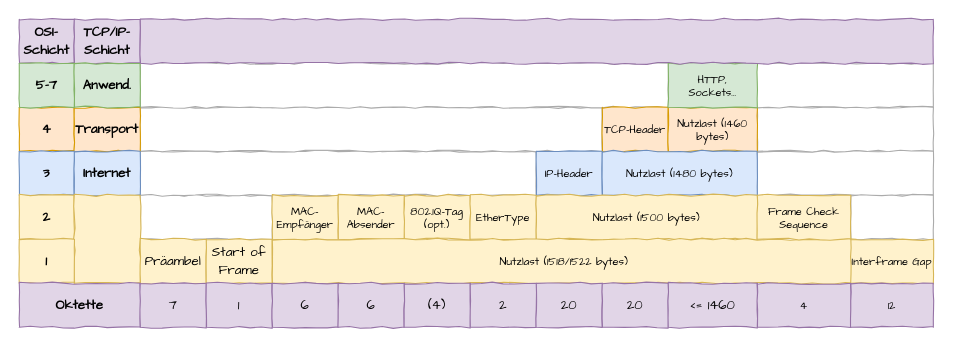
This 953x347 diagram has some shape labels left out. The centre of each missing label's shape, as x and y in pixels:
"Netz-Zugang" goes at pixel 106 238.
"Struktur" goes at pixel 536 40.
